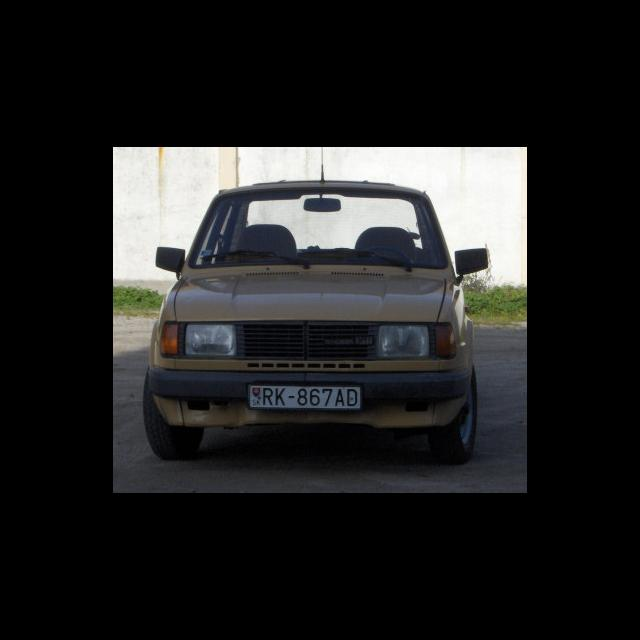Plate: (246, 381, 363, 411)
